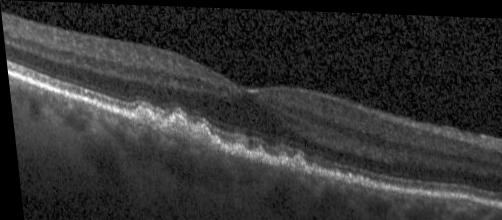retinal_drusen: (189, 123, 219, 149), (158, 113, 188, 135), (133, 108, 150, 125), (148, 114, 159, 127), (291, 156, 302, 168), (251, 151, 262, 162), (275, 157, 289, 165), (233, 146, 243, 157), (223, 148, 231, 155), (308, 164, 313, 172)
